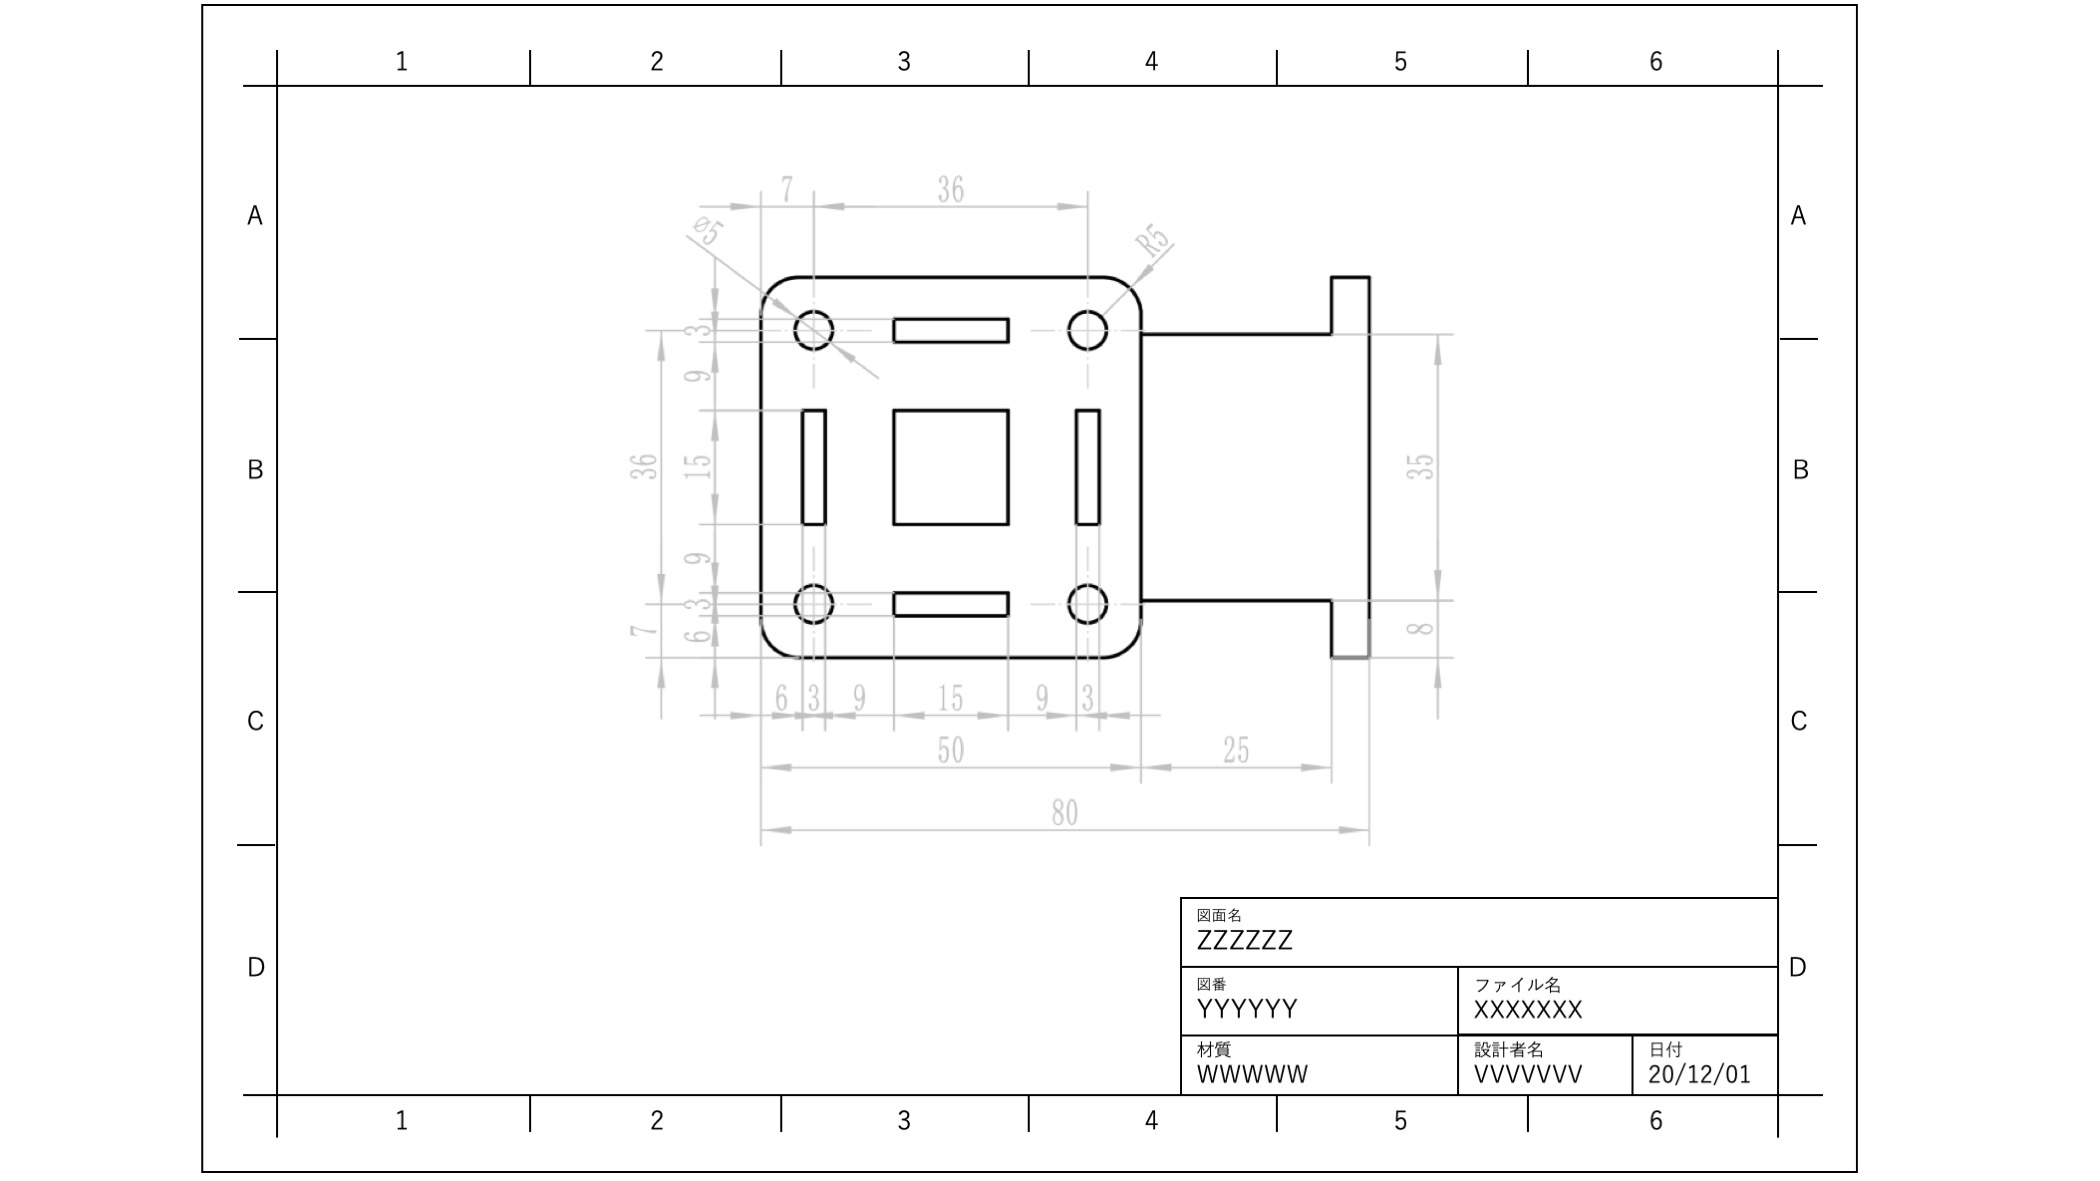circle: (786, 572, 841, 630), (786, 301, 839, 352), (1064, 575, 1113, 627), (1062, 303, 1111, 353)
rectangle: (884, 397, 1015, 532), (890, 306, 1015, 353), (1064, 398, 1108, 534), (888, 583, 1012, 624), (795, 394, 829, 532)
